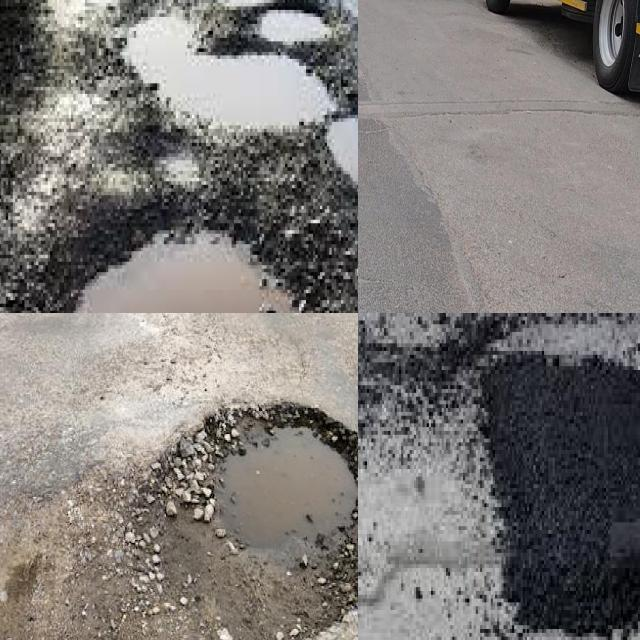Pothole: (0, 396, 358, 640), (358, 349, 640, 640), (122, 0, 358, 181), (77, 234, 292, 313), (501, 324, 640, 366)
